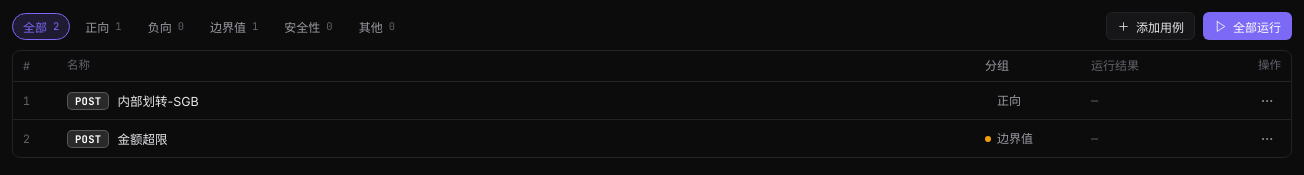
Test: TestCasesPanel › 点击分类 Tab 过滤列表
This screenshot has width=1304, height=175.
Click the button with class "tcp-filter" showing "边界值 1".
click(234, 26)  # box [199,12,269,40]
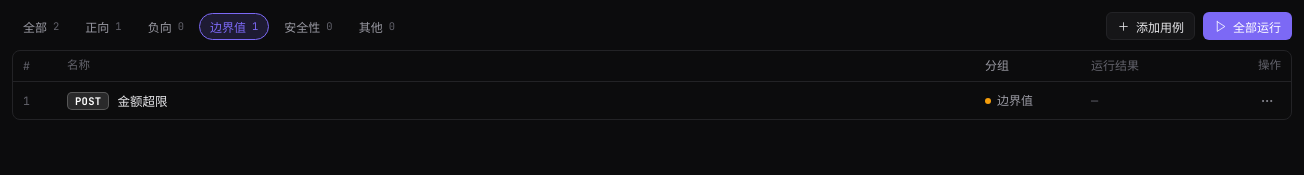
Check: the text "金额超限" is shown, box [117,91,167,110]
Check: the number of elements with class "tcp-body-row" is 1, box [13,81,1291,119]
Check: the text "内部划转-SGB" is gone
